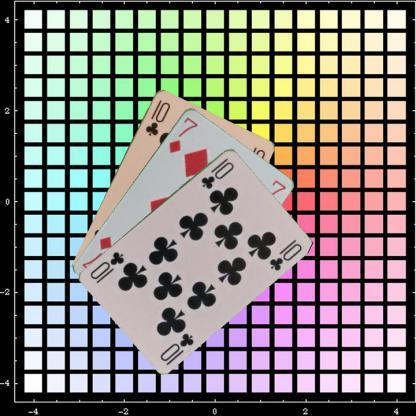10c: (198, 155, 235, 190), (142, 96, 172, 138), (157, 330, 195, 362)
7d: (166, 114, 200, 154)
